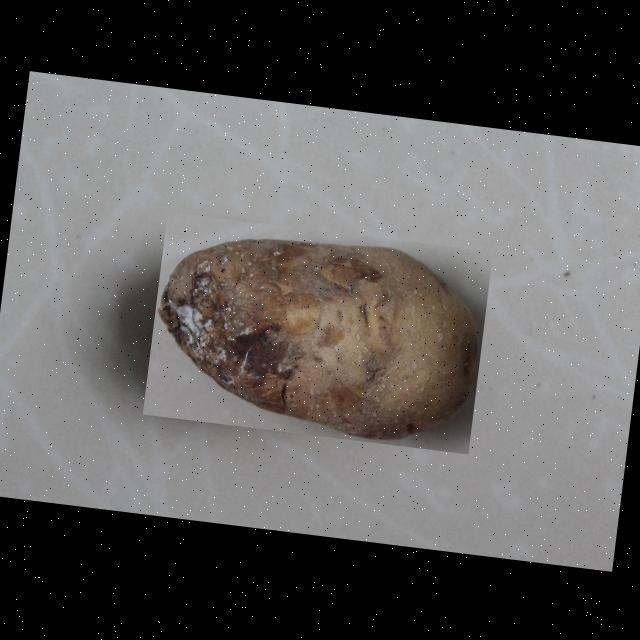Diseased-fungal potato: (142, 210, 492, 452)
